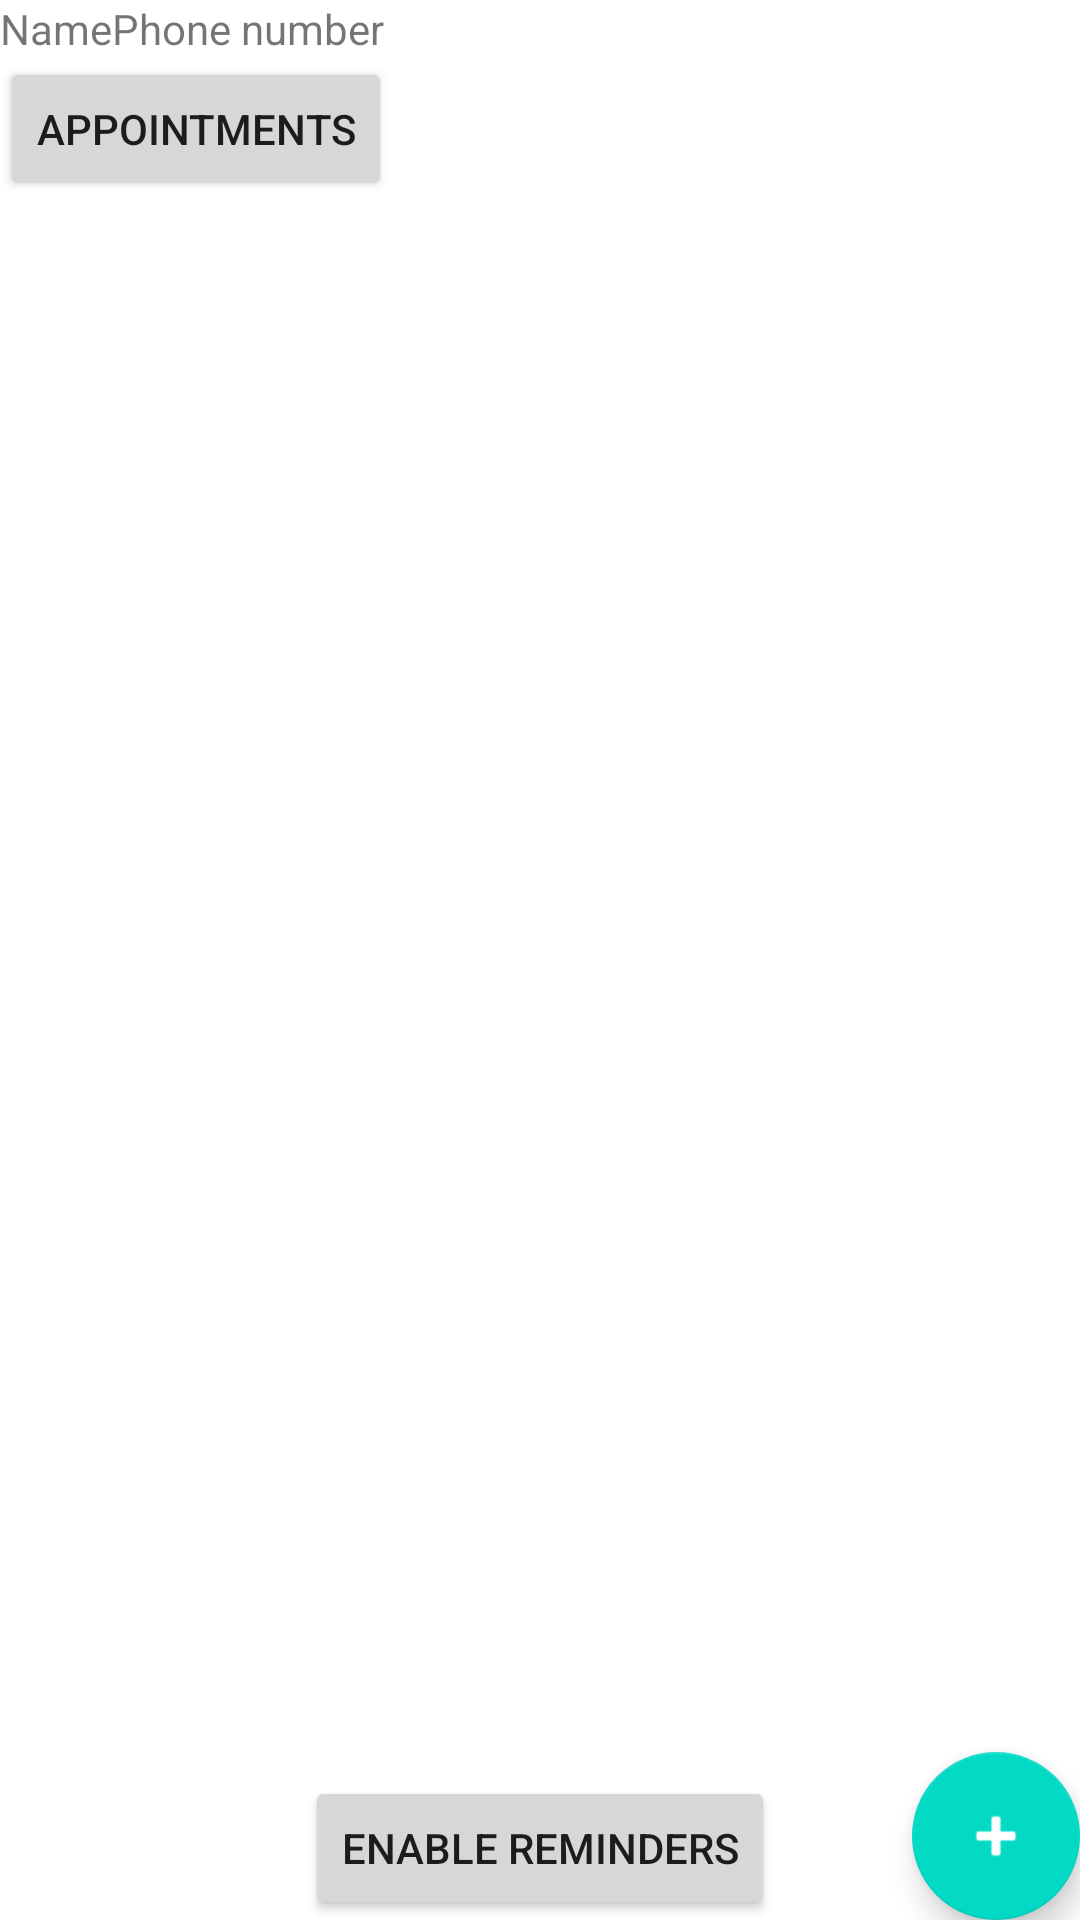

Icon bounding boxes for this 1080w x 1920h phone screenshot, format (x1, y1, x2, y2):
Add new Contact: (912, 1752, 1080, 1920)
